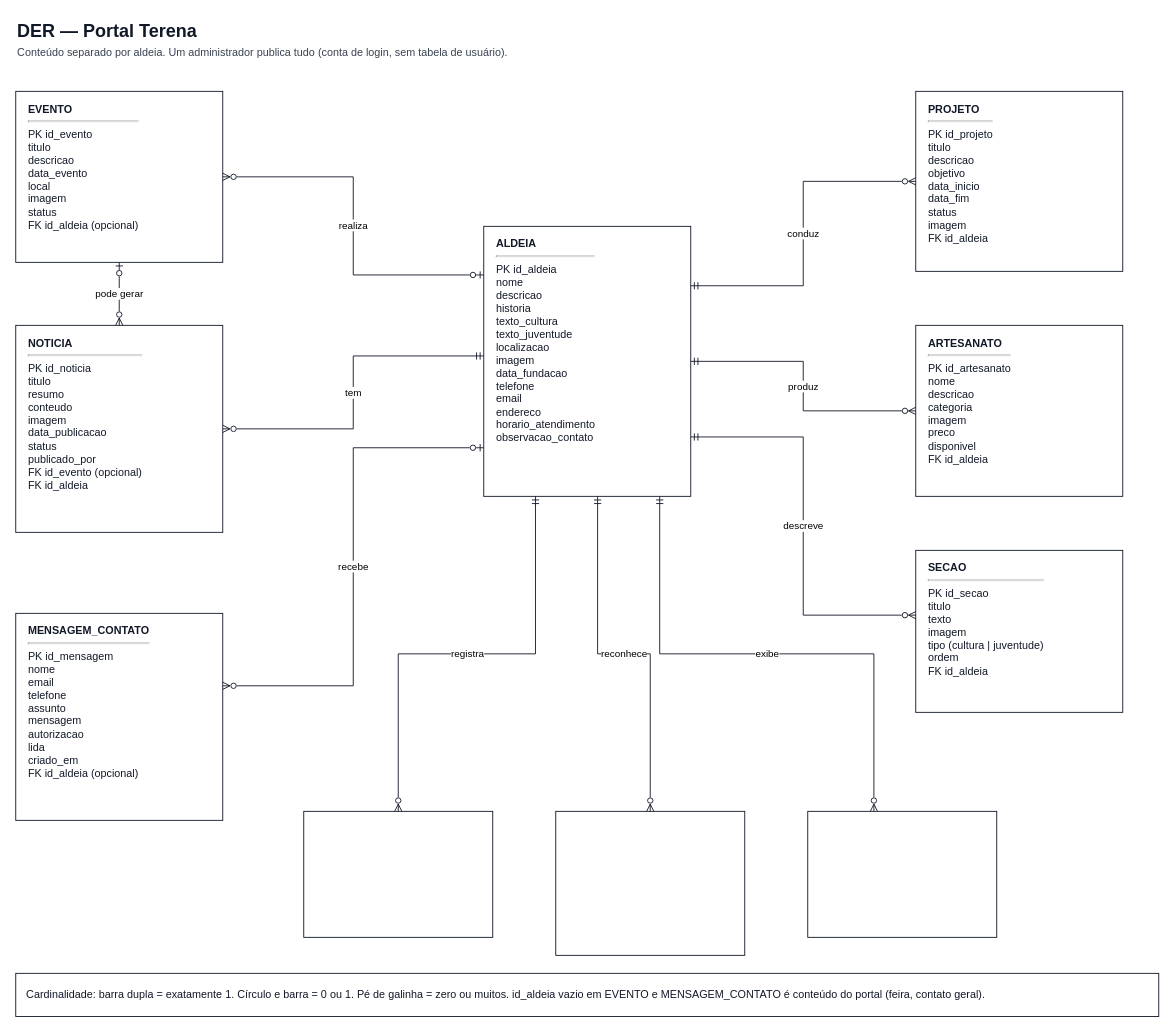
This 1175x1032 diagram has some shape labels left out. Here are the shapes that lost their labels. From the top down, the centre of each, then its label:
[398,873]: MARCO PK id_marco titulo descricao ordem FK id_aldeia
[650,882]: ANCIAO PK id_anciao nome descricao imagem ordem FK id_aldeia
[902,873]: FOTO PK id_foto imagem legenda ordem FK id_aldeia
